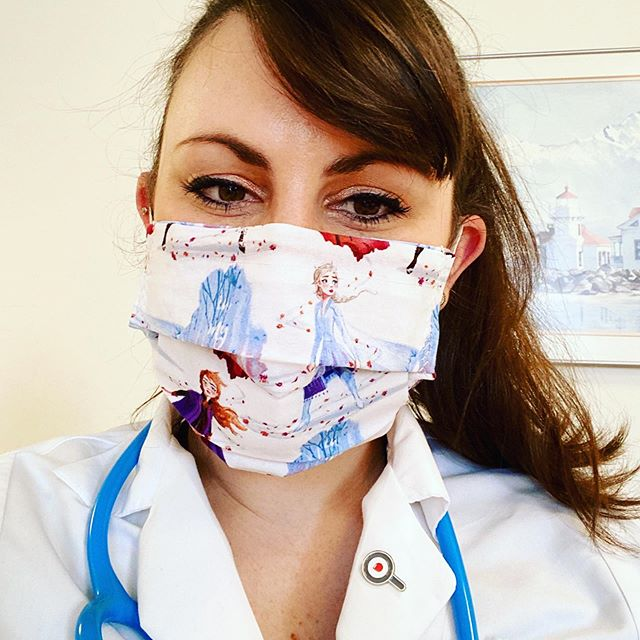homemade: (134, 220, 446, 475)
